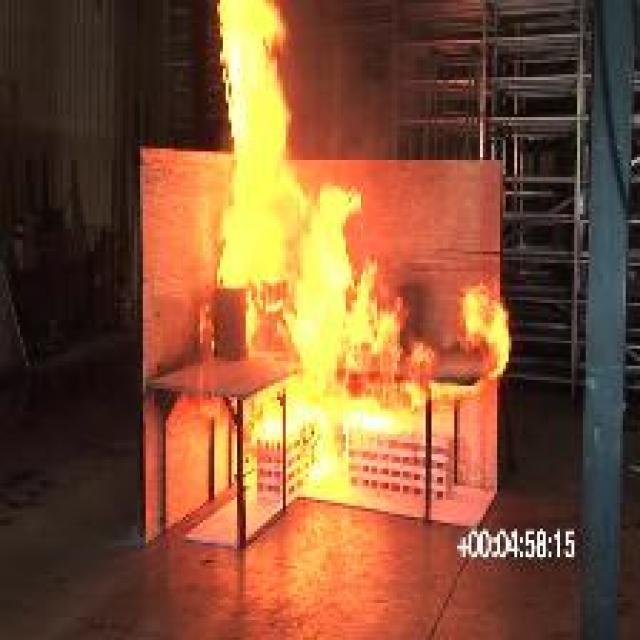Fire: (252, 184, 512, 487), (217, 0, 300, 283)
